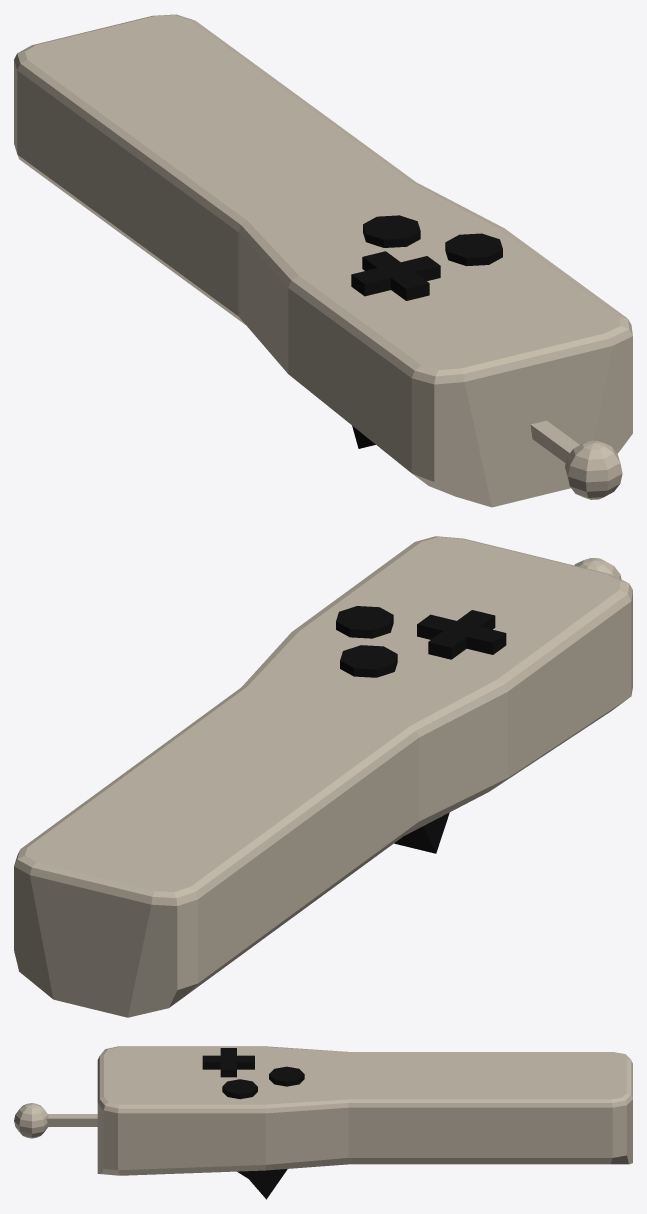
File: wiimote.fbx
The picture shows the model from 3 angles, top to bottom: view 1: azimuth 30°, elevation 25°; view 2: azimuth 150°, elevation 25°; view 3: azimuth 270°, elevation 25°; orthographic projection. The views are drawn at different scales.
Visible parts, largest first — view 1: Cube, Cube.002, Cylinder, Cylinder.001; view 2: Cube, Cube.002, Cylinder, Cylinder.001, Cube.001; view 3: Cube, Cube.002, Cube.001, Cylinder.001, Cylinder.
Boxes of the visible parts, <box> form: Cube: <box>14,14,632,507</box>; Cube.002: <box>351,251,440,300</box>; Cylinder: <box>445,233,502,266</box>; Cylinder.001: <box>363,215,420,247</box>; Cube: <box>14,536,632,1017</box>; Cube.002: <box>417,610,506,659</box>; Cylinder: <box>336,606,393,638</box>; Cylinder.001: <box>340,645,397,677</box>; Cube.001: <box>394,812,449,853</box>; Cube: <box>14,1046,632,1175</box>; Cube.002: <box>202,1048,254,1077</box>; Cube.001: <box>237,1169,287,1199</box>; Cylinder.001: <box>269,1066,304,1086</box>; Cylinder: <box>222,1079,257,1099</box>.
Size of the model in its own units: 8.49 by 7.41 by 34.69.
